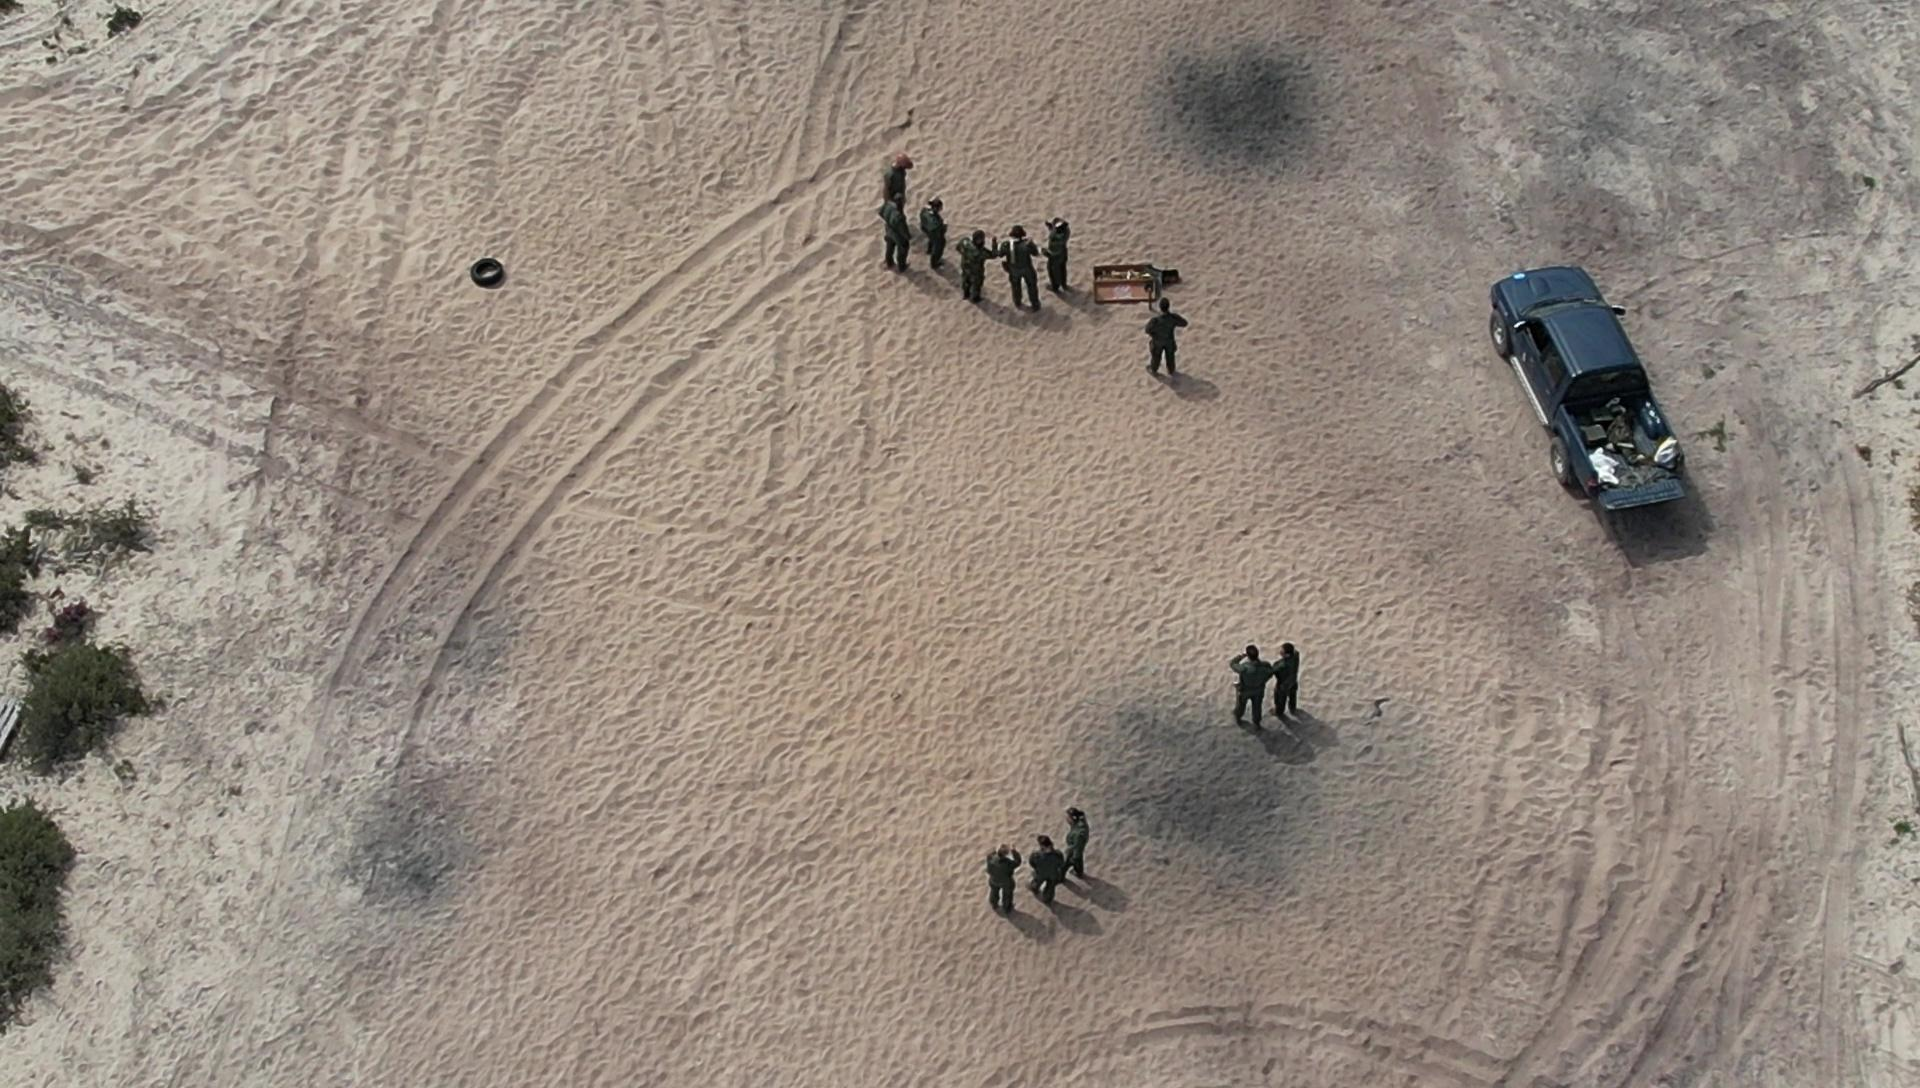Soldier: (1137, 291, 1201, 393), (947, 207, 1004, 314), (972, 828, 1034, 924), (1220, 636, 1274, 733), (994, 218, 1044, 322), (1036, 211, 1084, 307), (870, 185, 924, 265), (914, 179, 959, 276), (1025, 830, 1072, 911), (1266, 625, 1304, 721), (1059, 803, 1109, 874), (881, 148, 920, 183)
